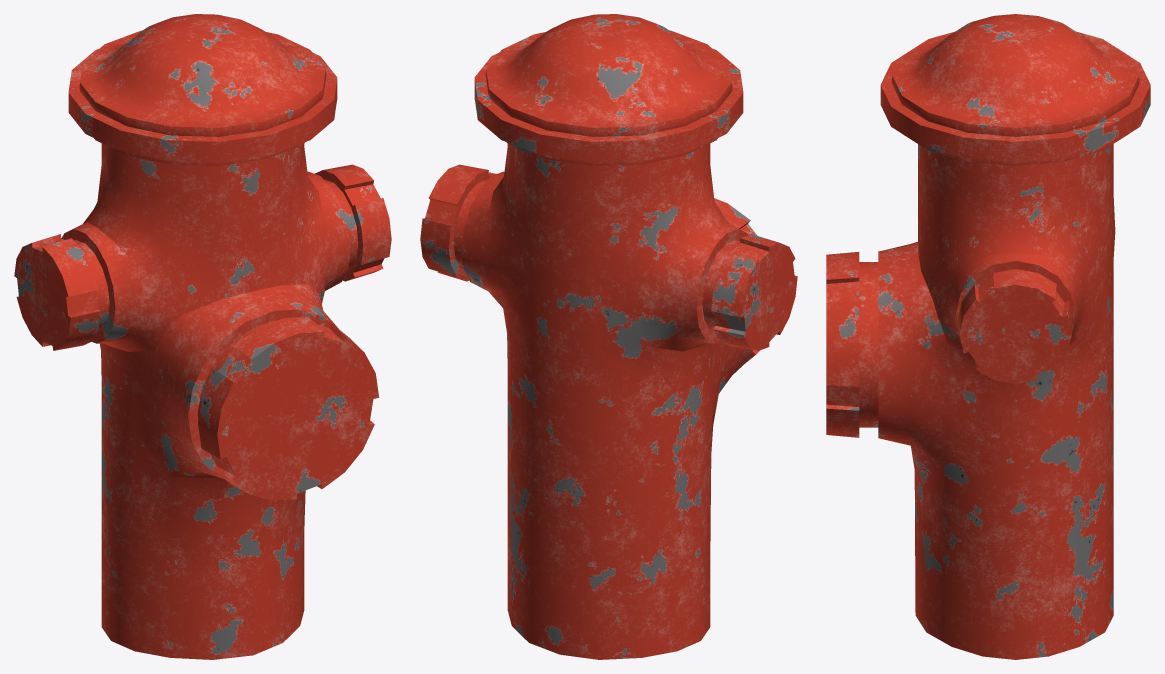
File: Hydrant.fbx
3 views of the same model, side by side, from view 1: azimuth 30°, elevation 25°; view 2: azimuth 150°, elevation 25°; view 3: azimuth 270°, elevation 25° (orthographic).
Parts seen in each view (by area): view 1: Hydrant; view 2: Hydrant; view 3: Hydrant.
Boxes of the visible parts, left/top/right/bottom form: Hydrant: left=14, top=14, right=391, bottom=659; Hydrant: left=420, top=14, right=797, bottom=659; Hydrant: left=826, top=14, right=1150, bottom=659.
Size of the model in its own units: 46.02 by 80.81 by 40.54.
